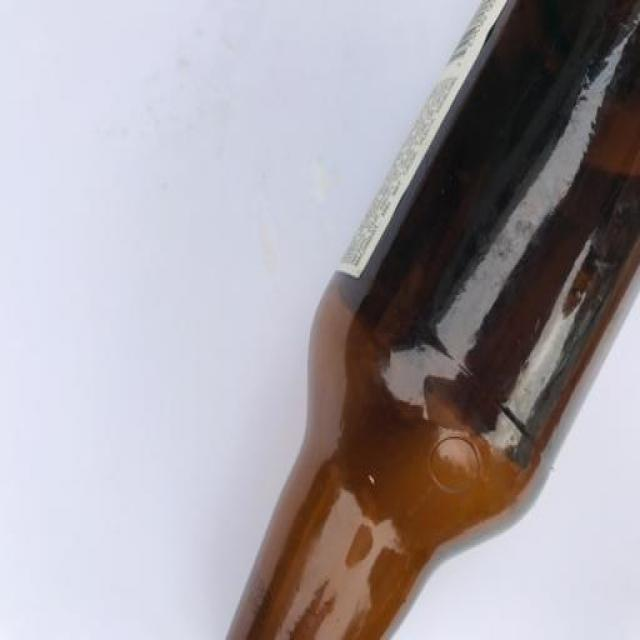Waste: (231, 2, 640, 639)
